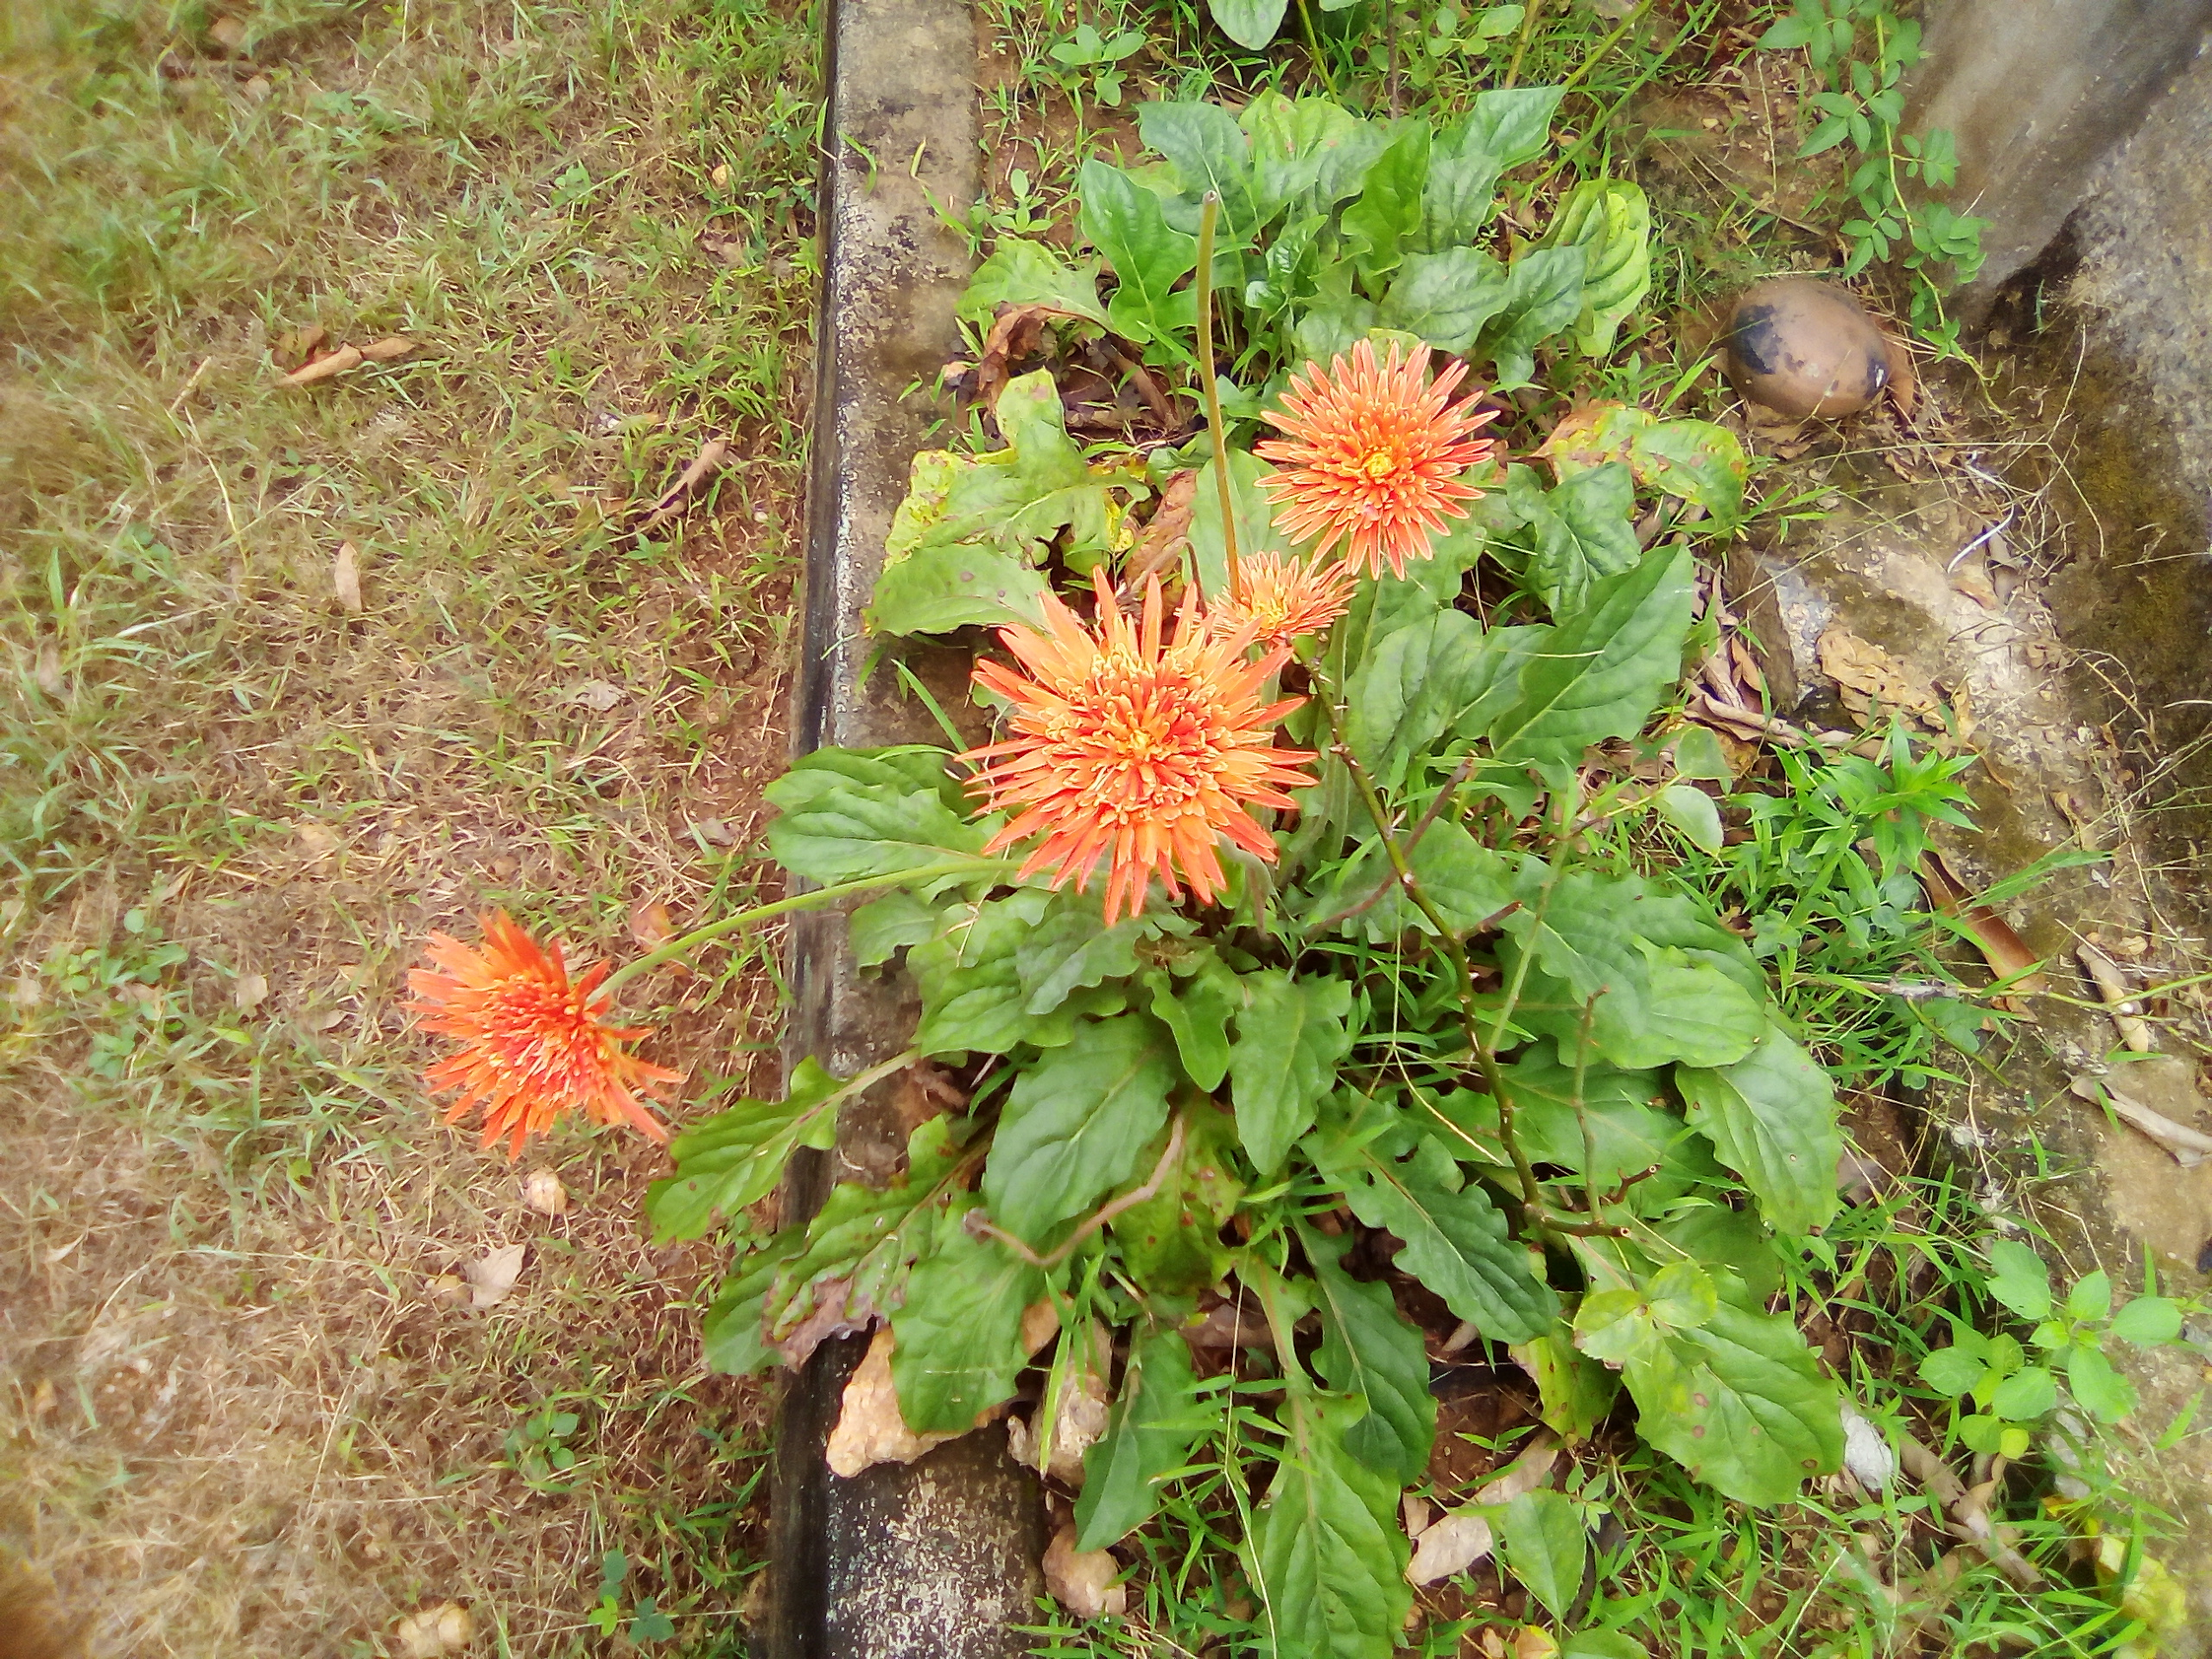ginimala: (954, 622, 1313, 901), (385, 931, 711, 1164), (1266, 385, 1512, 580)
